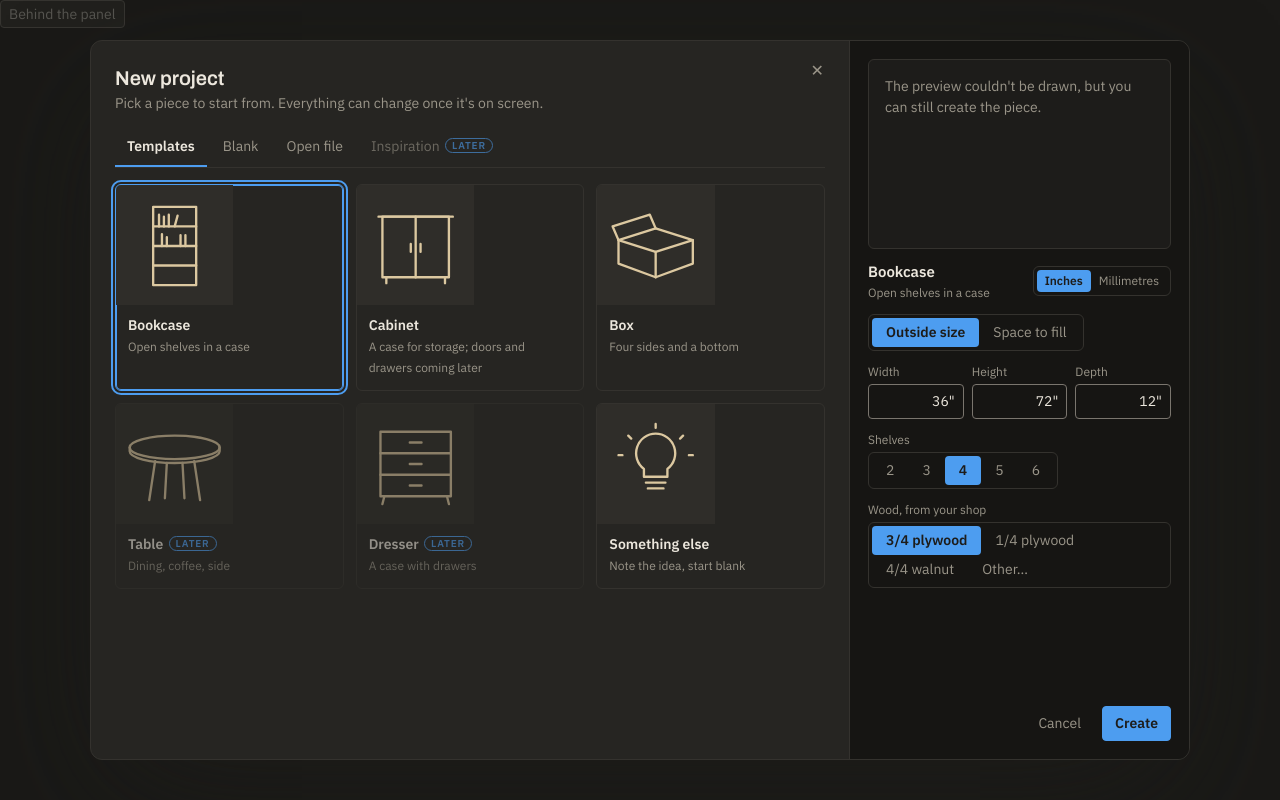
Test: <NewProject> › keeps the sizes typed when the units change: 30" is 762 mm, and back
The image size is (1280, 800).
Replace the text in the field labelled "Width" with "30\"" at (916, 401), box [868,384,964,418]
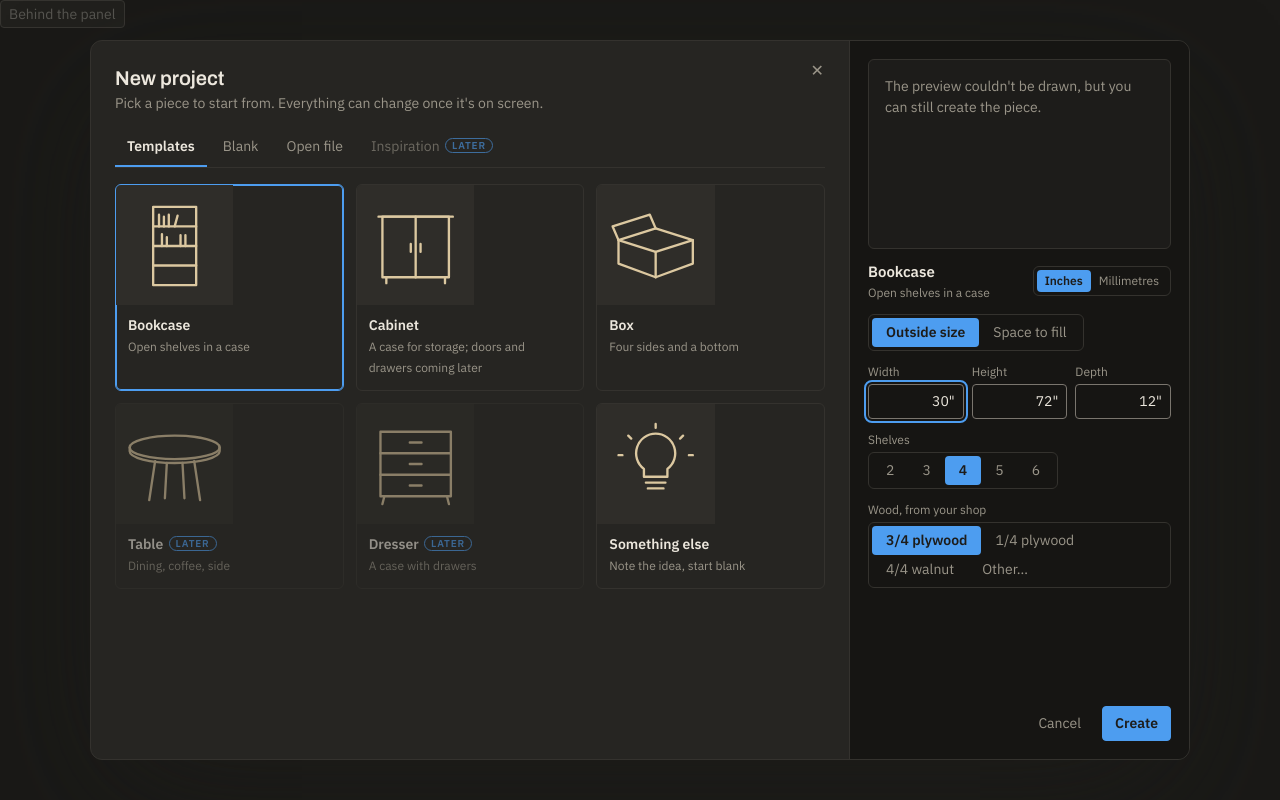
Click the button "Millimetres".
click(1129, 281)  # box [1091,270,1167,292]
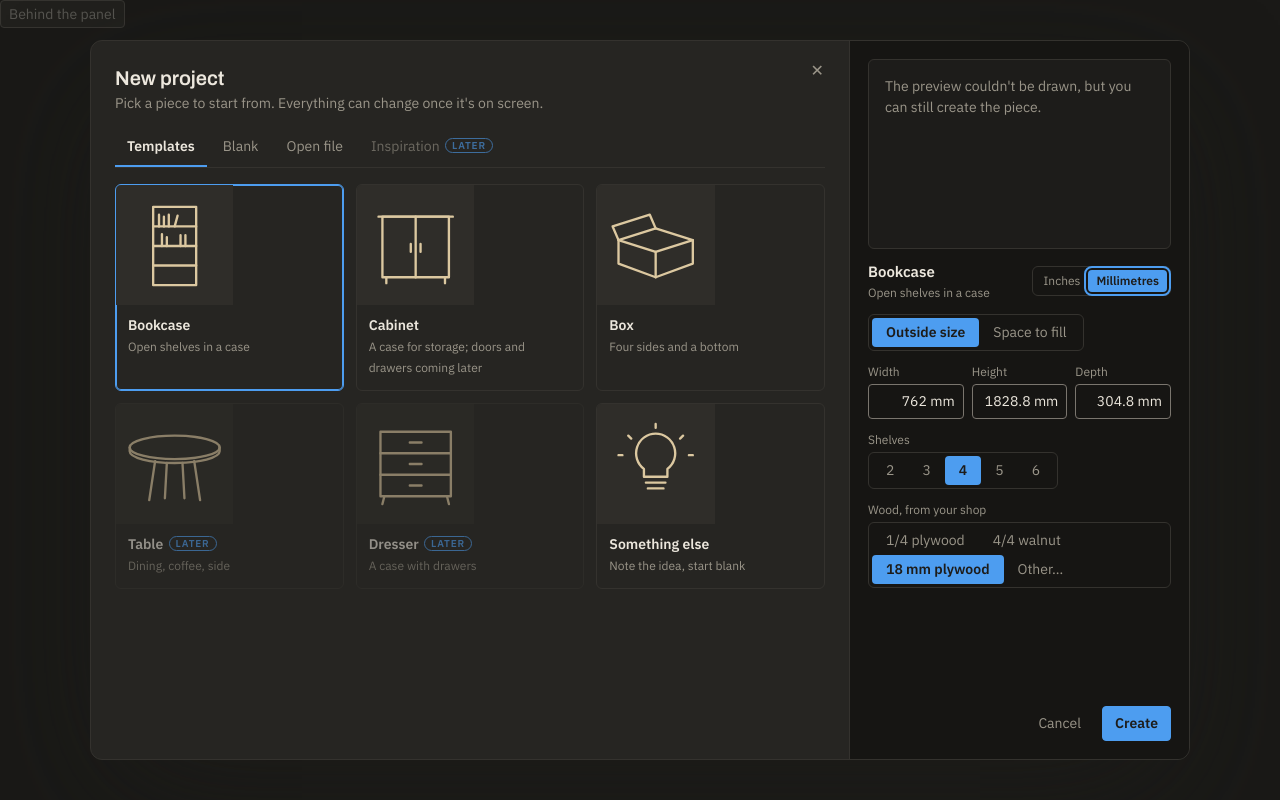
Result: the field labelled "Width" holds "762 mm" at [868,384,964,418]
Result: the field labelled "Height" holds "1828.8 mm" at [972,384,1067,418]
Result: the field labelled "Depth" holds "304.8 mm" at [1075,384,1171,418]
Click the button "Inches".
click(1062, 281)  # box [1036,270,1088,292]
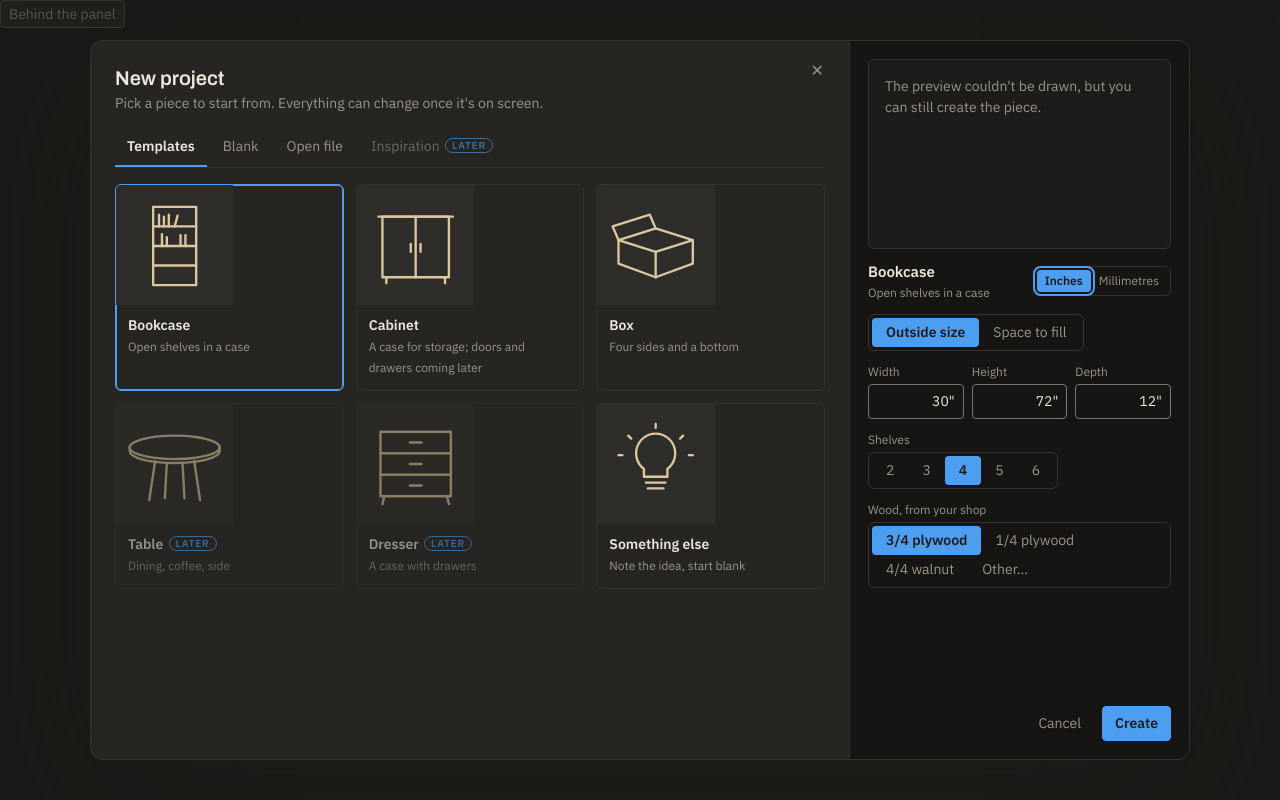
Result: the field labelled "Height" holds "72\"" at [972,384,1067,418]
